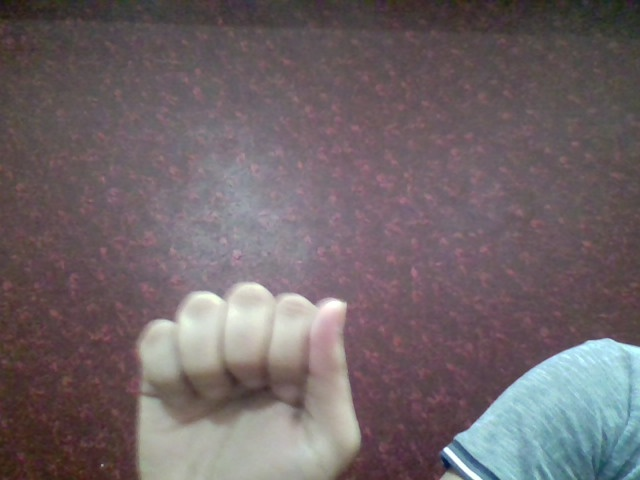a: (122, 273, 366, 480)
